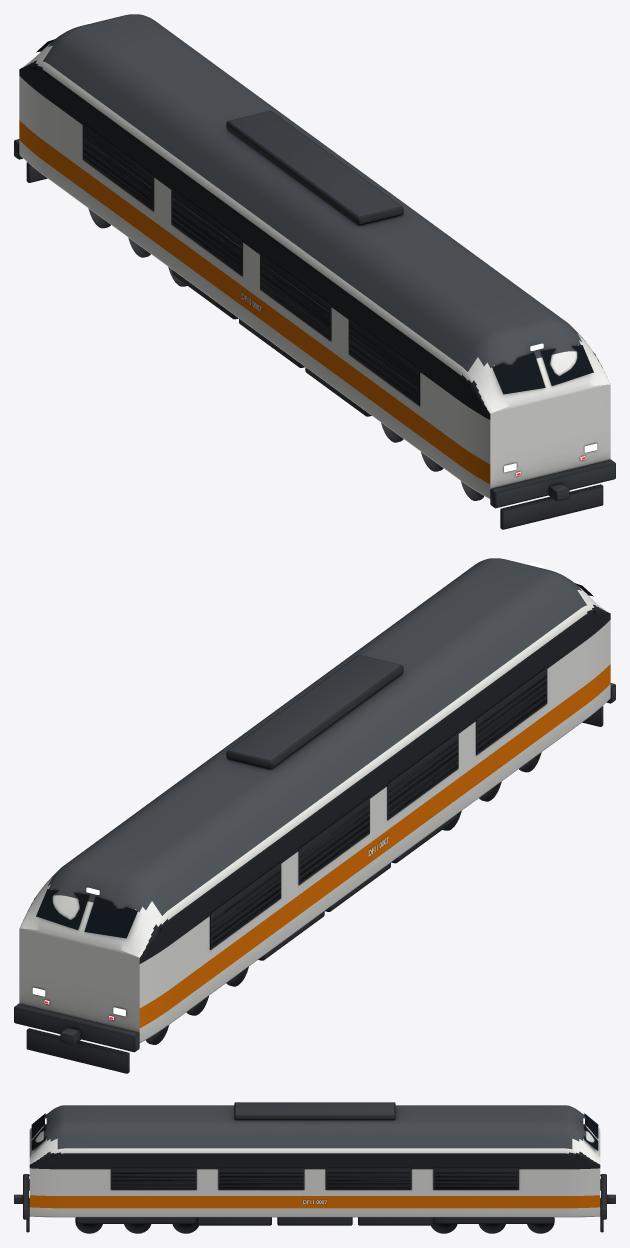
Rendered from train_sgr_loco.glb.
3 views of the same model, one above another, from view 1: azimuth 30°, elevation 25°; view 2: azimuth 150°, elevation 25°; view 3: azimuth 270°, elevation 25° (orthographic). The views are drawn at different scales.
Visible parts, largest first — view 1: body, glass; view 2: body, glass; view 3: body, glass.
Boxes of the visible parts, left/top/right/bottom form: body: left=14, top=14, right=615, bottom=529; glass: left=34, top=39, right=595, bottom=394; body: left=14, top=558, right=615, bottom=1073; glass: left=34, top=583, right=595, bottom=938; body: left=14, top=1102, right=615, bottom=1233; glass: left=31, top=1113, right=598, bottom=1156.
Size of the model in its own units: 3.36 by 4.78 by 22.41.
Materials: 12 (9 with a texture image).
